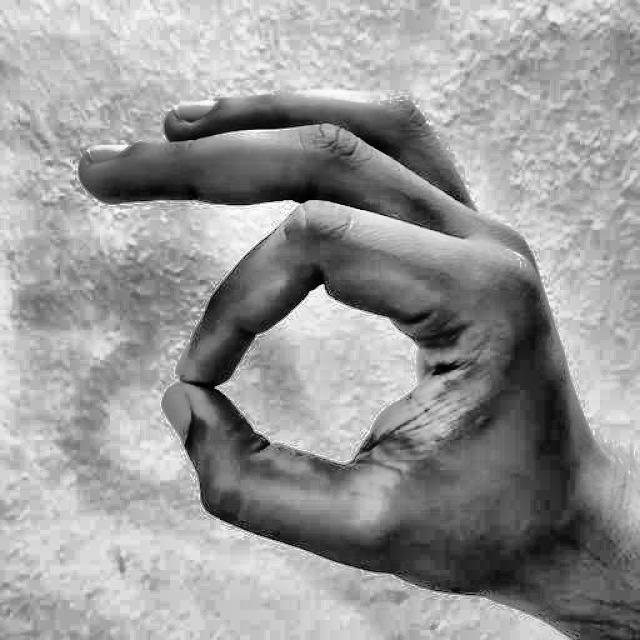Yo: (50, 52, 584, 619)
